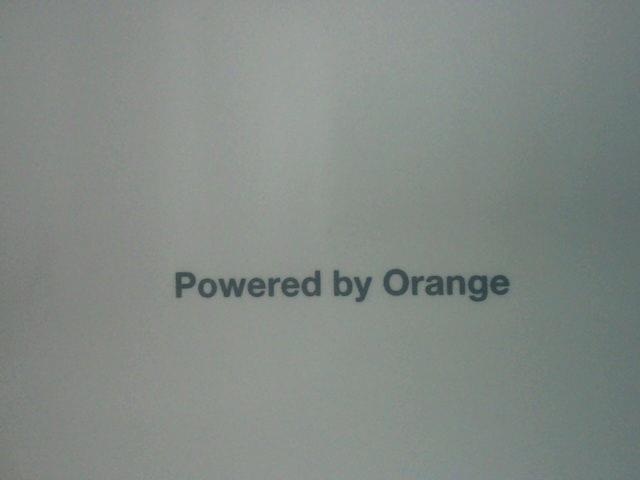AS_PowerByOrange: (170, 244, 516, 308)
